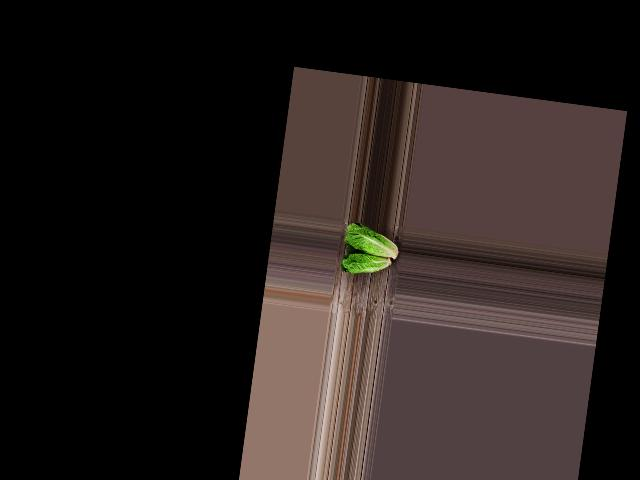lettuce: (341, 220, 404, 260)
